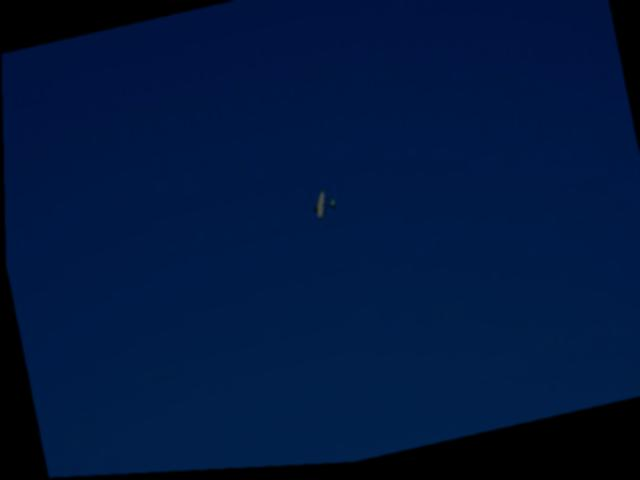iha: (299, 188, 346, 226)
